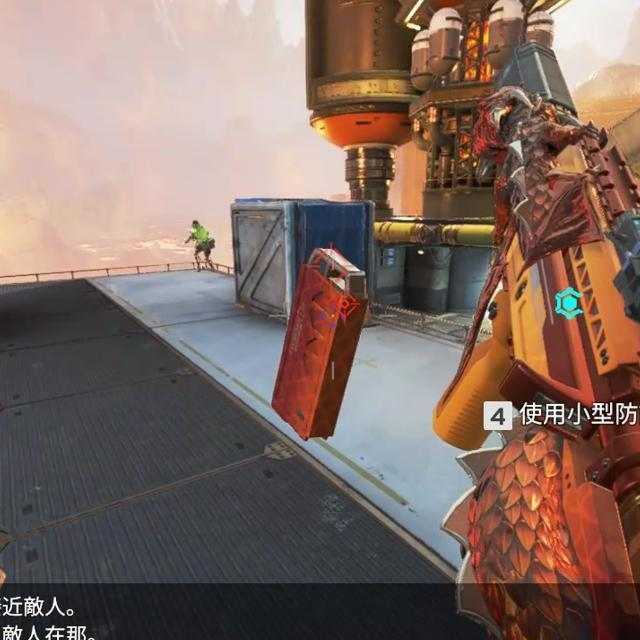avatar: (190, 219, 216, 273)
object: (194, 225, 210, 243)
